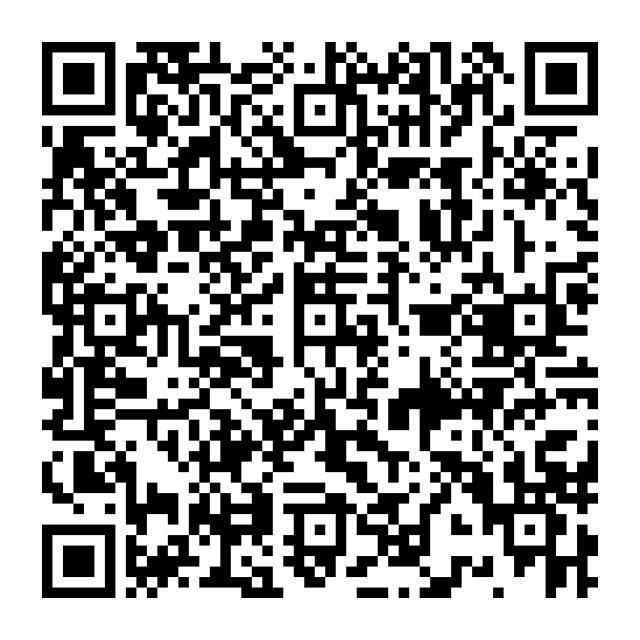qr-code: (29, 32, 608, 610)
